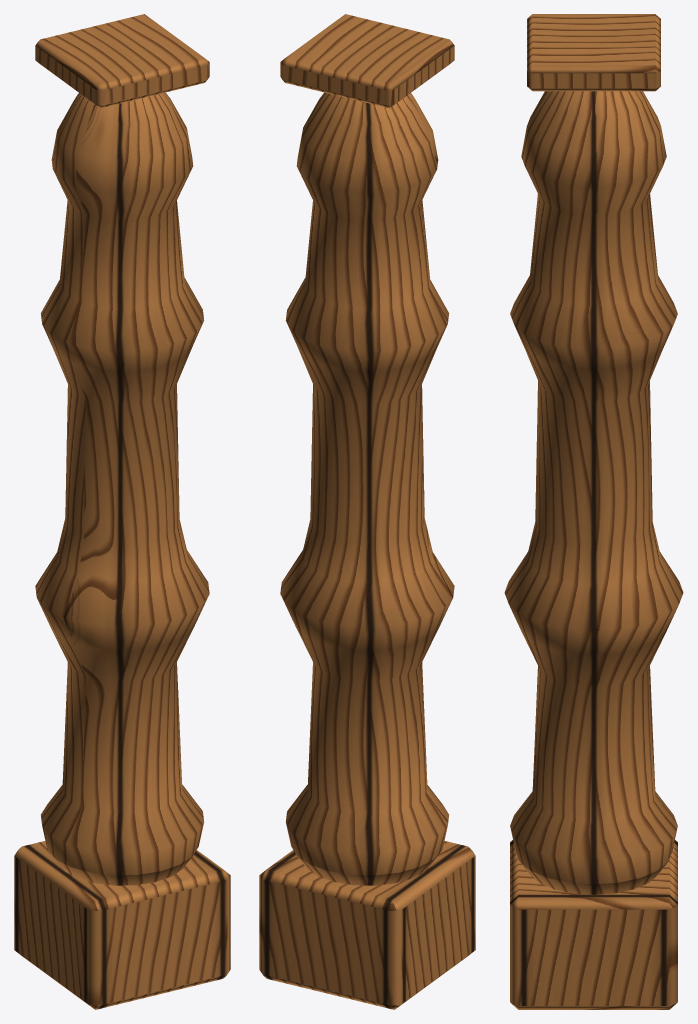
File: Turned_Post.glb
The picture shows the model from 3 angles, left to right: view 1: azimuth 30°, elevation 25°; view 2: azimuth 150°, elevation 25°; view 3: azimuth 270°, elevation 25°; orthographic projection. The views are drawn at different scales.
Parts seen in each view (by area): view 1: Turned_Post; view 2: Turned_Post; view 3: Turned_Post.
Boxes of the visible parts, x1,y1,x2,y2 form: Turned_Post: (14,14,230,1009); Turned_Post: (259,14,475,1009); Turned_Post: (504,14,683,1009).
Size of the model in its own units: 0.32 by 1.85 by 0.32.
Materials: 1 (1 with a texture image).
